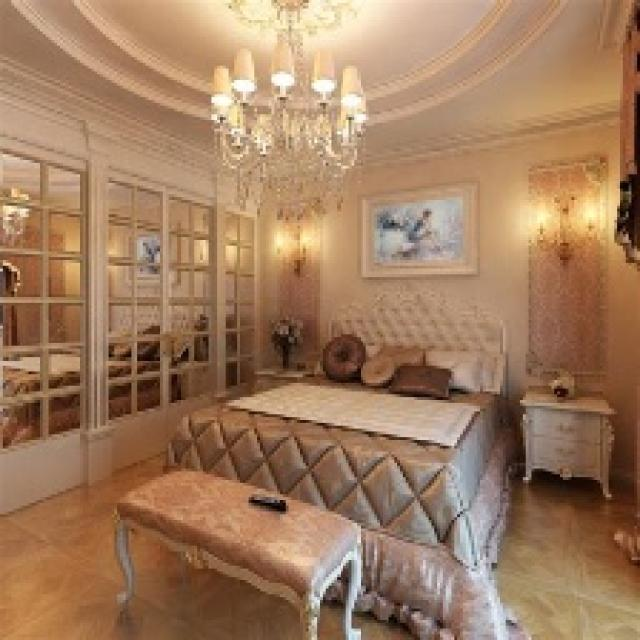Bed: (163, 291, 514, 580)
